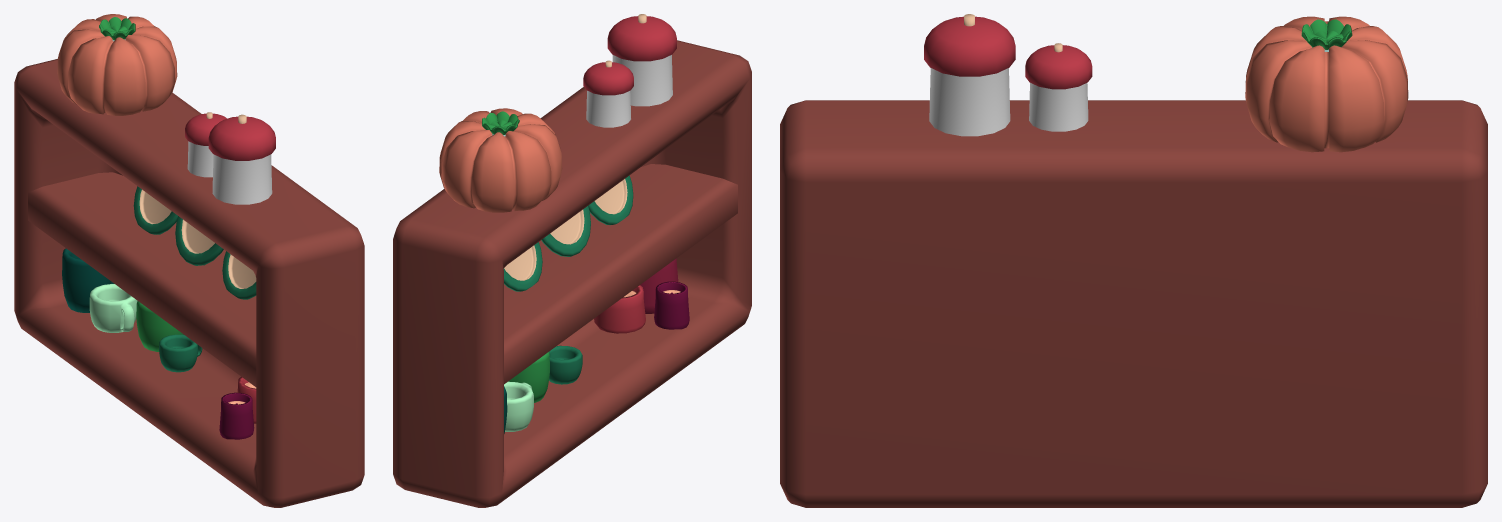
Rendered from Wallslot_01_CC.glb.
The picture shows the model from 3 angles, left to right: view 1: azimuth 30°, elevation 25°; view 2: azimuth 150°, elevation 25°; view 3: azimuth 270°, elevation 25°; orthographic projection. The views are drawn at different scales.
Parts seen in each view (by area): view 1: Wallslot_01_CC; view 2: Wallslot_01_CC; view 3: Wallslot_01_CC.
Boxes of the visible parts, box(x1,y1,x2,y2) form: Wallslot_01_CC: box(14, 14, 364, 507); Wallslot_01_CC: box(393, 14, 751, 507); Wallslot_01_CC: box(780, 14, 1487, 507).
Bounding box in the file's own units: 0.1519 × 0.4733 × 0.6572.
1 material, 1 textured.
